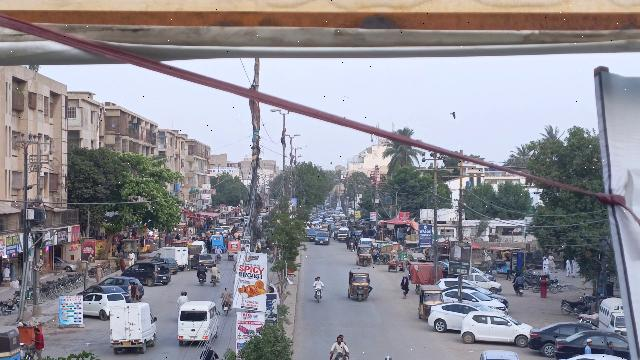Bike: (313, 286, 325, 305), (221, 299, 232, 319), (197, 273, 207, 287), (209, 274, 218, 288)
Car: (458, 309, 532, 347), (552, 330, 636, 360), (525, 320, 583, 358), (427, 302, 483, 334), (122, 260, 173, 286), (83, 291, 126, 320)
Person: (30, 326, 48, 358), (397, 273, 411, 300), (332, 333, 346, 355), (176, 289, 190, 305), (221, 285, 232, 300), (313, 274, 324, 288), (209, 263, 220, 276), (196, 263, 207, 274)
Rickshaw: (417, 283, 445, 322), (346, 266, 373, 304), (354, 243, 373, 267)
Truck: (109, 302, 157, 355), (159, 245, 189, 267)
Van: (175, 301, 222, 347)
